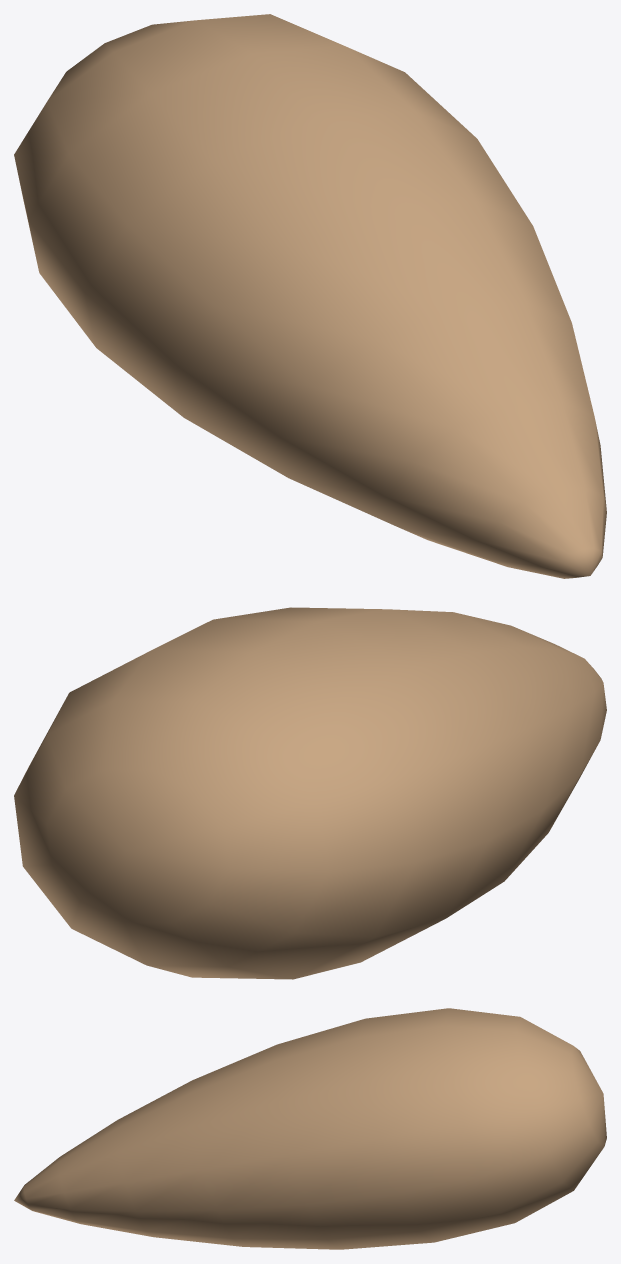
File: muzzle-beak-small.glb
3 views of the same model, one above another, from view 1: azimuth 30°, elevation 25°; view 2: azimuth 150°, elevation 25°; view 3: azimuth 270°, elevation 25° (orthographic). The views are drawn at different scales.
Visible parts, largest first — view 1: muzzle-beak-small; view 2: muzzle-beak-small; view 3: muzzle-beak-small.
Part boxes in pixels (<box>): muzzle-beak-small: <box>14,14,606,578</box>; muzzle-beak-small: <box>14,607,606,979</box>; muzzle-beak-small: <box>14,1008,606,1249</box>.
Bounding box in the file's own units: 0.0578 × 0.0445 × 0.1157.
